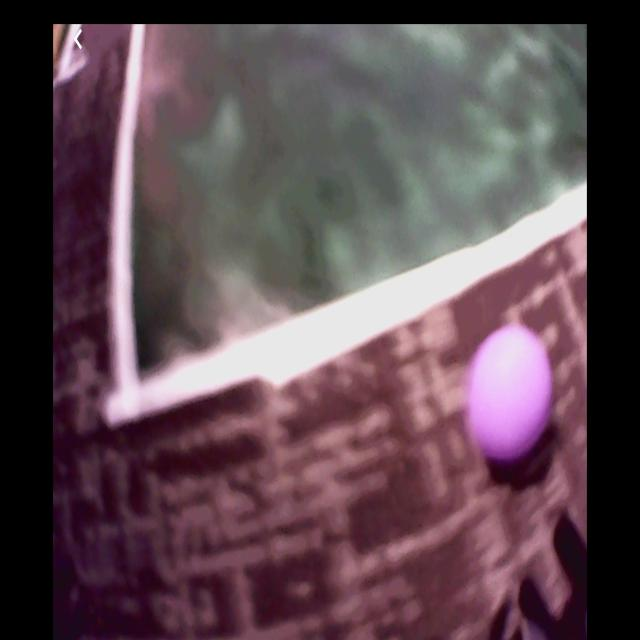ball: (467, 328, 555, 470)
